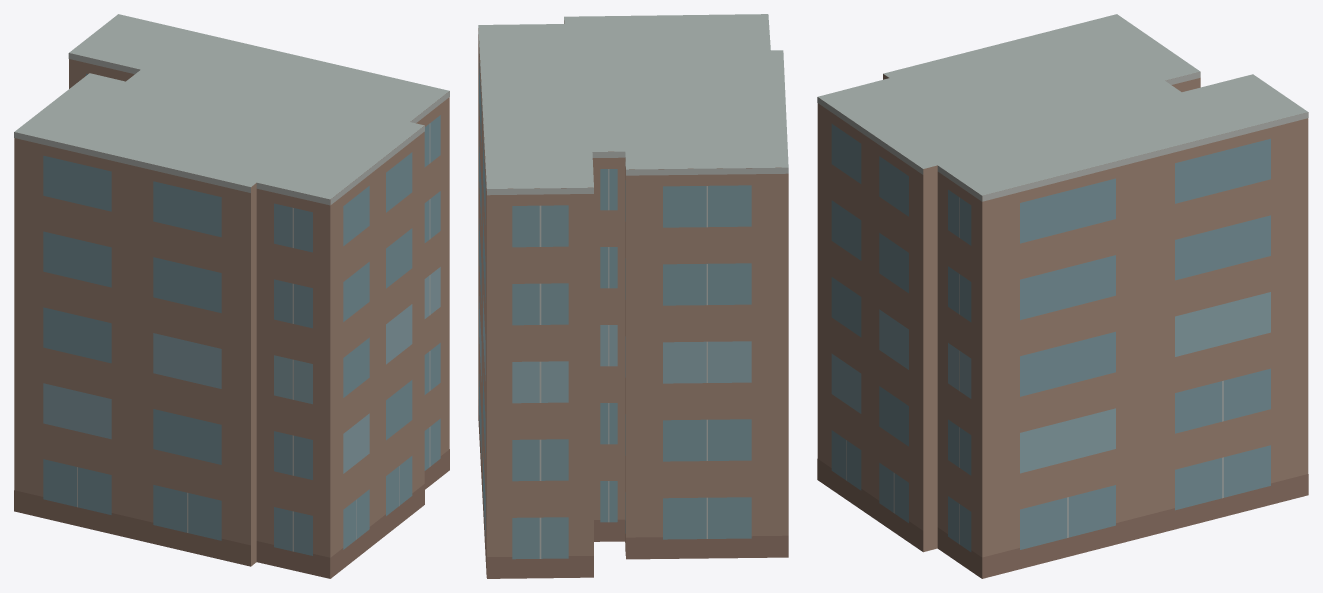
Rendered from survey-upis-32767930.glb.
The picture shows the model from 3 angles, left to right: view 1: azimuth 30°, elevation 25°; view 2: azimuth 150°, elevation 25°; view 3: azimuth 270°, elevation 25°; orthographic projection. The views are drawn at different scales.
Visible parts, largest first — view 1: survey-upis-32767930.tmp; view 2: survey-upis-32767930.tmp; view 3: survey-upis-32767930.tmp.
Boxes of the visible parts, left/top/right/bottom form: survey-upis-32767930.tmp: left=14, top=14, right=449, bottom=578; survey-upis-32767930.tmp: left=478, top=14, right=788, bottom=578; survey-upis-32767930.tmp: left=817, top=14, right=1308, bottom=578.
Size of the model in its own units: 15.75 by 15.47 by 17.97.
